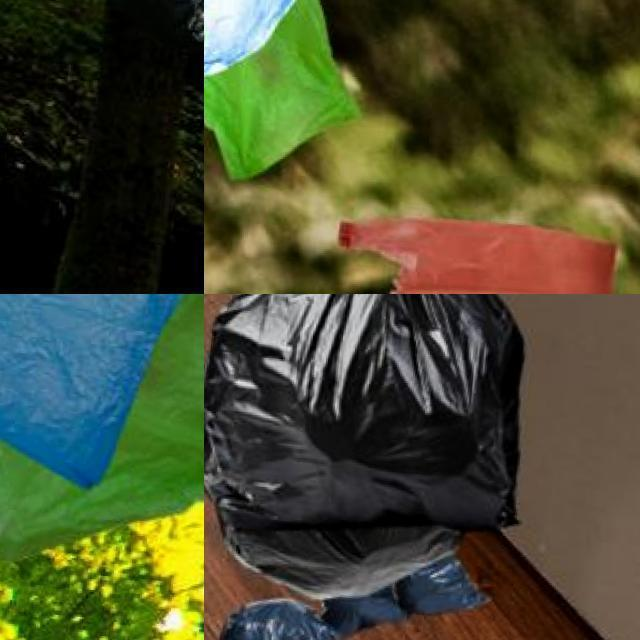waste: (204, 294, 539, 565), (0, 294, 204, 585), (0, 294, 204, 499), (204, 0, 370, 186), (319, 207, 617, 294), (204, 0, 325, 129), (221, 584, 371, 640), (398, 552, 492, 617), (110, 0, 204, 39)
